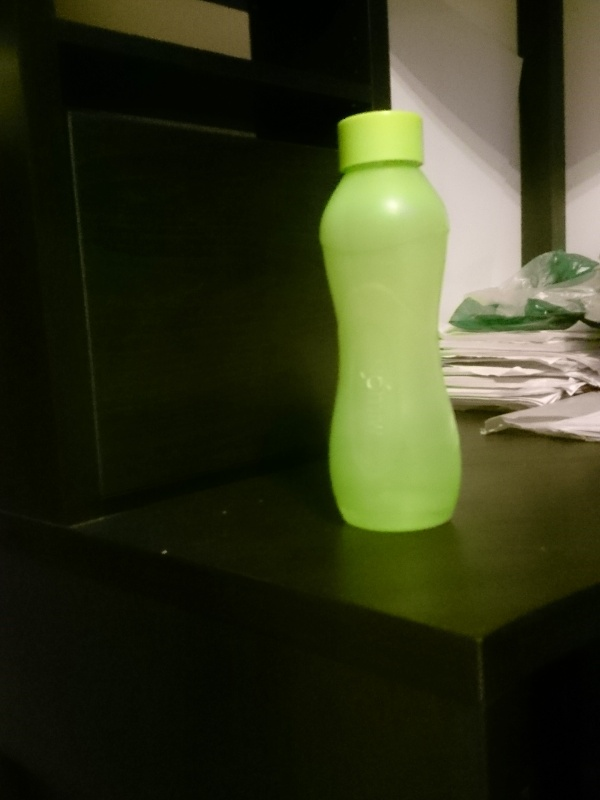my bottle: (319, 108, 462, 532)
